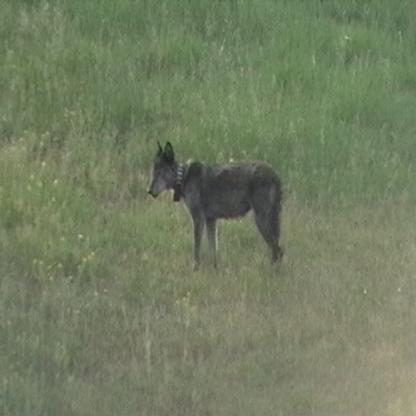dog: (145, 139, 283, 265)
